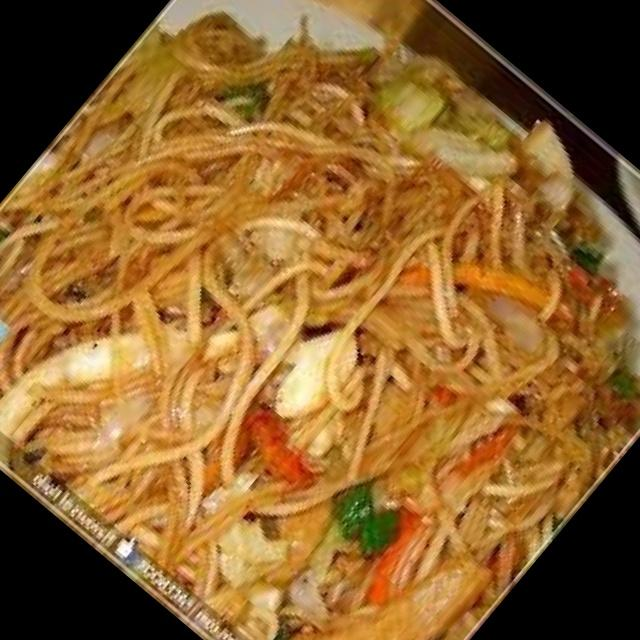pancit bihon: (0, 8, 637, 639)
